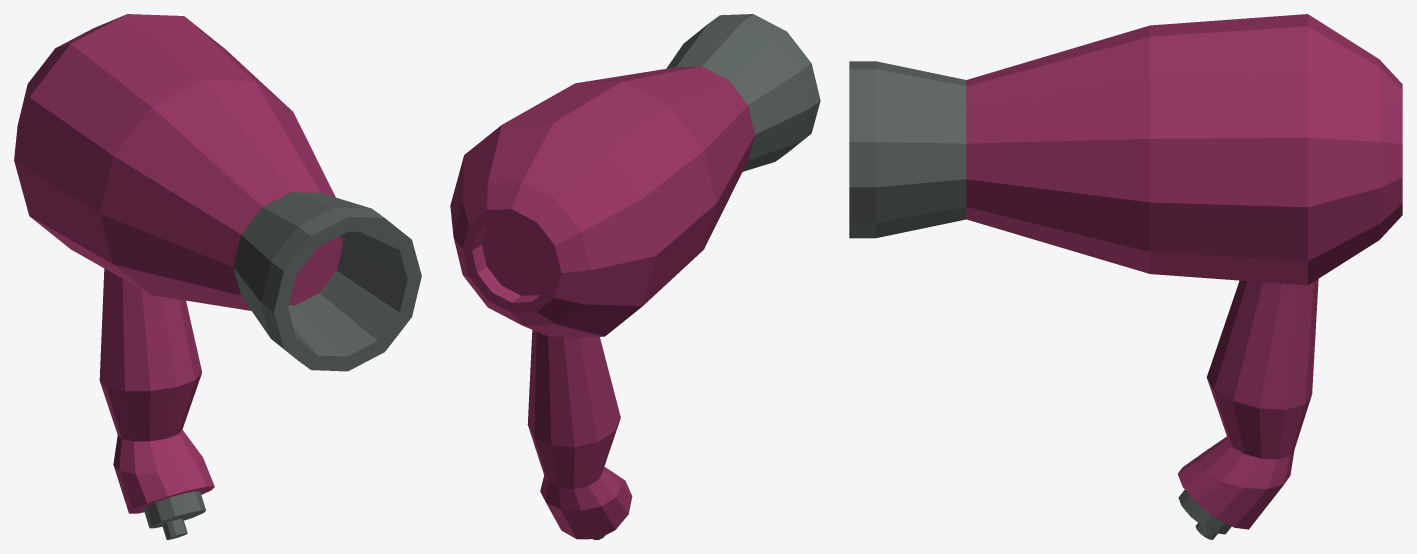
The model's file is airGun_GEO_01.fbx.
3 views of the same model, side by side, from view 1: azimuth 30°, elevation 25°; view 2: azimuth 150°, elevation 25°; view 3: azimuth 270°, elevation 25° (orthographic). The views are drawn at different scales.
Visible parts, largest first — view 1: airgun_Geo_01; view 2: airgun_Geo_01; view 3: airgun_Geo_01.
Part boxes in pixels (x1,y1,x2,y2): airgun_Geo_01: [14, 14, 421, 539]; airgun_Geo_01: [450, 14, 820, 539]; airgun_Geo_01: [849, 14, 1402, 539].
Bounding box in the file's own units: 24.32 × 50.41 × 49.38.
